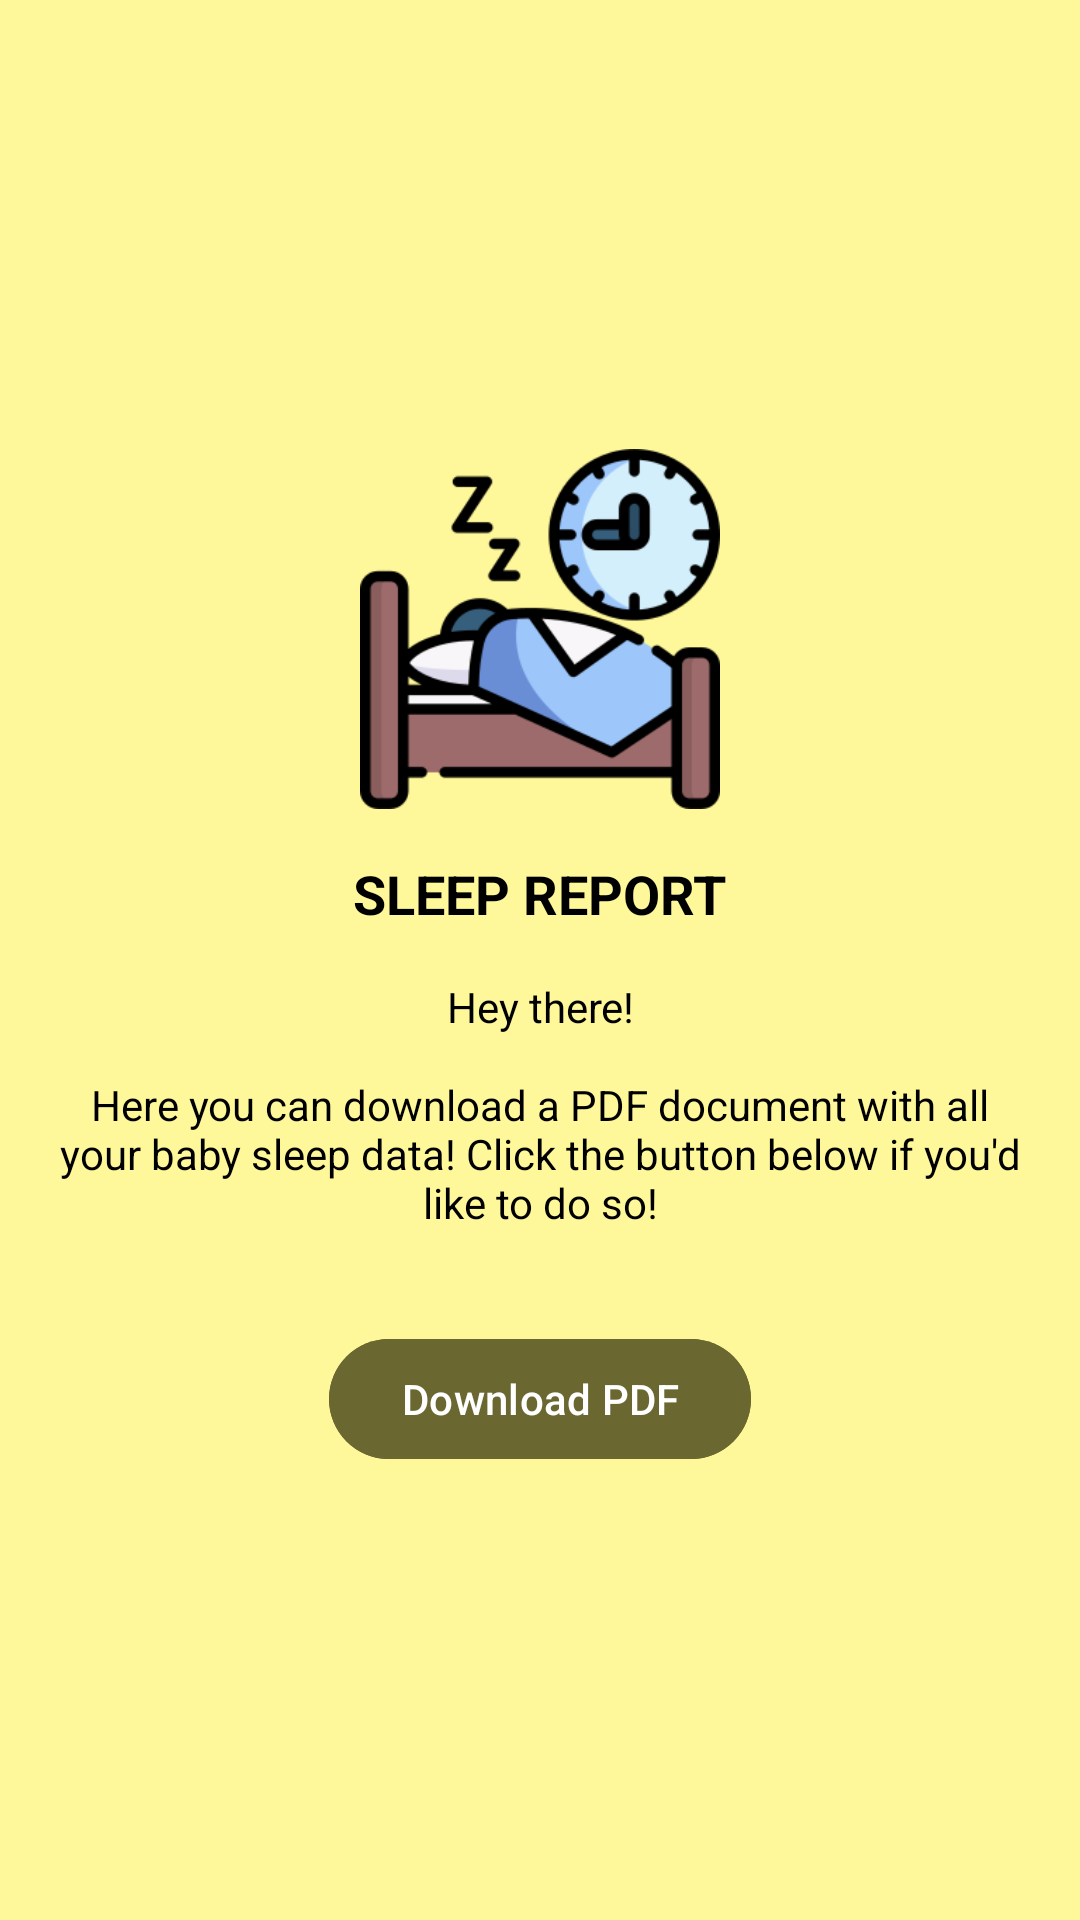

Point at icon controls on the screen. Image size 1080w x 1920h, points as [x,y].
sleep add: [540,629]
